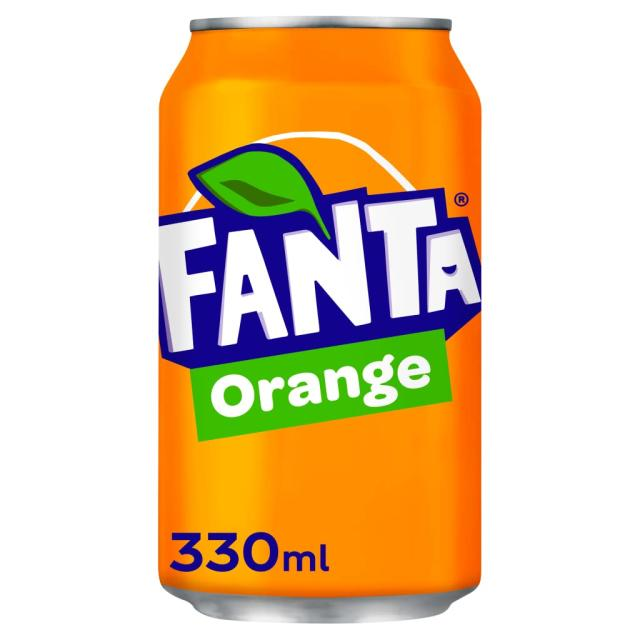fanta: (149, 16, 493, 629)
